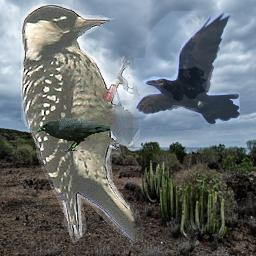Crow: (134, 11, 240, 124), (36, 118, 110, 153)
Woodpecker: (21, 4, 146, 247)
